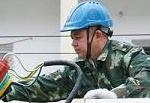gloves: (83, 88, 117, 100), (0, 53, 16, 74)
hard-hat: (59, 0, 112, 32)
ppe-suit: (2, 38, 149, 102)
